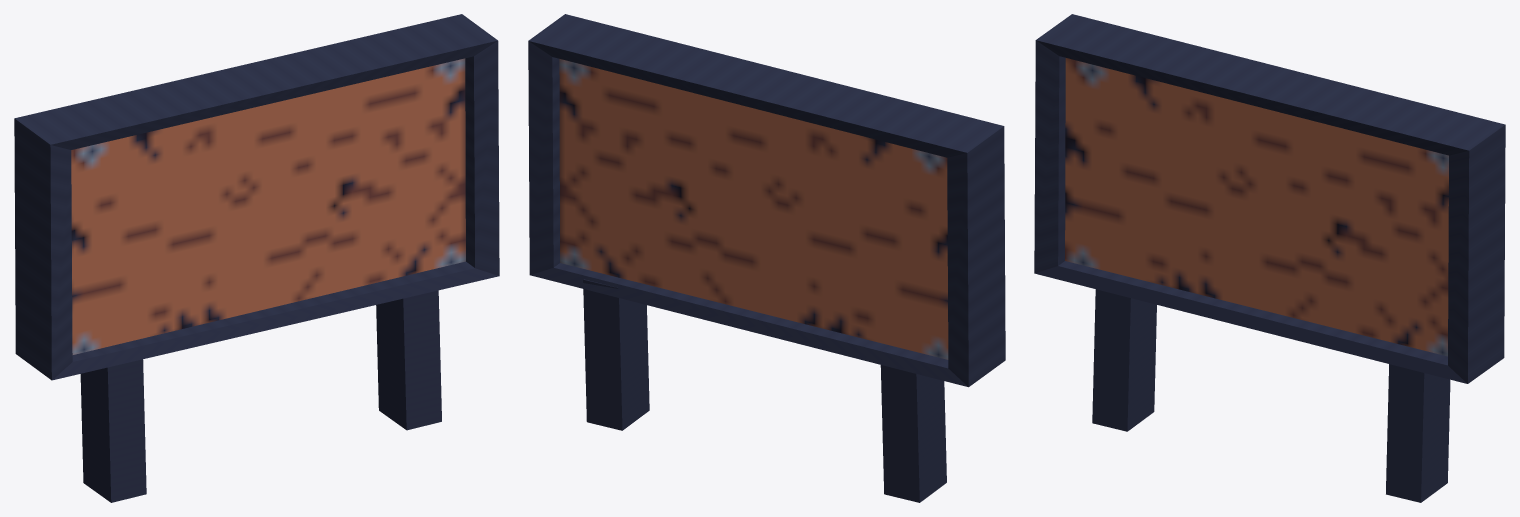
The model's file is Placa.fbx.
3 views of the same model, side by side, from view 1: azimuth 30°, elevation 25°; view 2: azimuth 150°, elevation 25°; view 3: azimuth 330°, elevation 25° (orthographic).
Parts seen in each view (by area): view 1: Placa; view 2: Placa; view 3: Placa.
Part boxes in pixels (x1,y1,x2,y2): Placa: [14, 14, 499, 502]; Placa: [528, 14, 1005, 502]; Placa: [1034, 14, 1505, 502].
Size of the model in its own units: 195 by 32.63 by 156.
